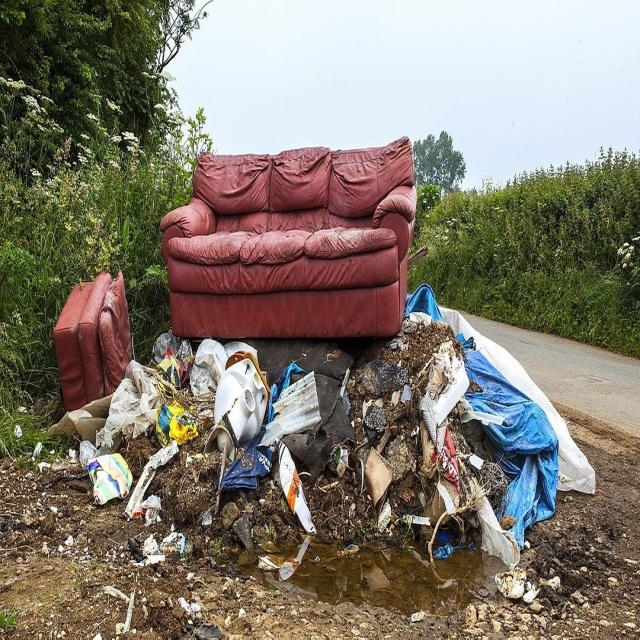dumping: (46, 122, 589, 579)
